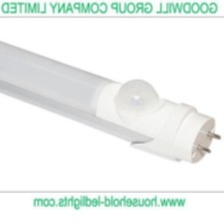light_bulb: (0, 27, 221, 164)
